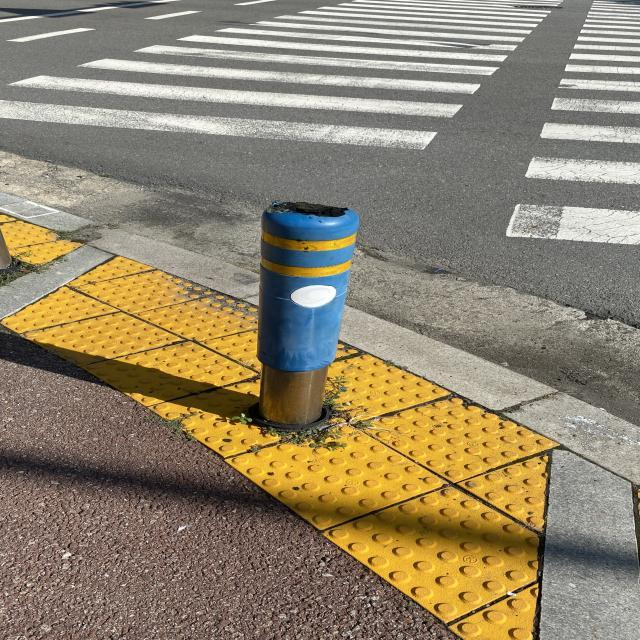pole: (248, 202, 358, 431)
